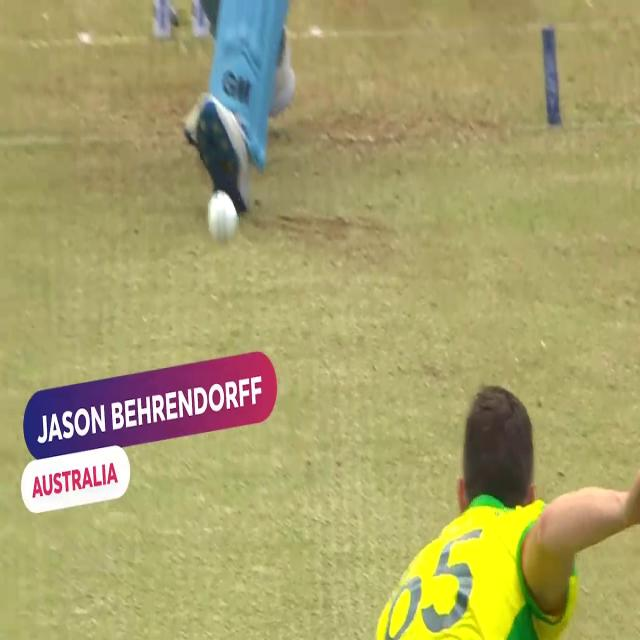ball: (204, 186, 240, 249)
